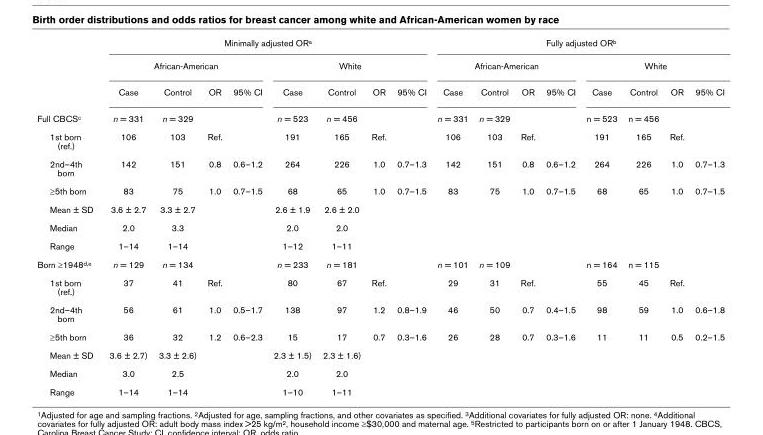table: (36, 36, 724, 396)
table column: (36, 36, 100, 396), (100, 36, 152, 396), (152, 36, 201, 396), (267, 36, 316, 396), (316, 36, 365, 396), (431, 36, 473, 396), (580, 36, 622, 396), (226, 36, 267, 396), (390, 36, 431, 396), (473, 36, 514, 396), (539, 36, 580, 396), (622, 36, 663, 396), (689, 36, 724, 396), (663, 36, 689, 396), (201, 36, 226, 396), (365, 36, 390, 396), (514, 36, 539, 396)
table column header: (36, 36, 724, 104)
table row: (36, 272, 724, 300), (36, 127, 724, 154), (36, 154, 724, 181), (36, 78, 724, 104), (36, 300, 724, 326), (36, 53, 724, 78), (36, 104, 724, 127), (36, 199, 724, 218), (36, 326, 724, 345), (36, 363, 724, 382), (36, 181, 724, 199), (36, 218, 724, 236), (36, 236, 724, 254), (36, 254, 724, 272), (36, 345, 724, 363), (36, 36, 724, 53), (36, 382, 724, 396)
table spanning cell: (100, 36, 431, 53), (431, 36, 724, 53), (100, 53, 267, 78), (267, 53, 431, 78), (431, 53, 580, 78), (580, 53, 724, 78)
